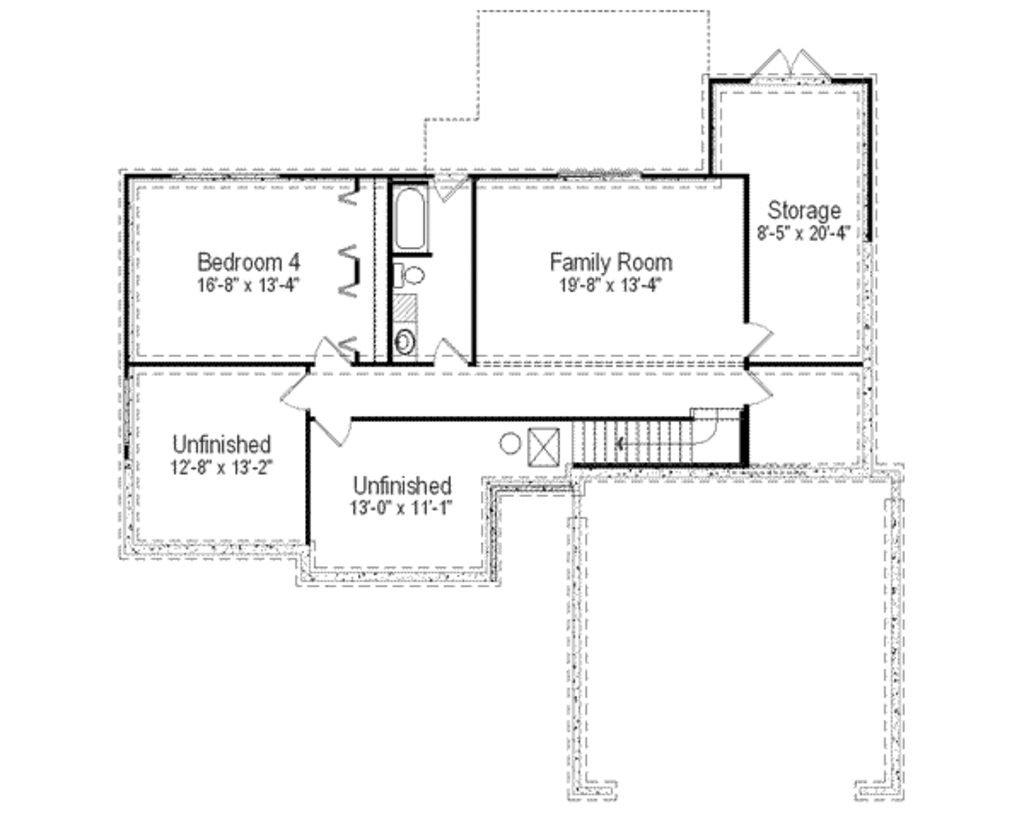door: (757, 46, 831, 78), (272, 372, 321, 410), (735, 321, 777, 359), (740, 365, 776, 399), (433, 172, 468, 203), (314, 418, 352, 445), (433, 335, 471, 360), (312, 336, 348, 360)
large_sink: (390, 252, 439, 291)
small_sink: (391, 323, 412, 359)
stairs: (576, 422, 742, 462)
tub: (388, 180, 438, 257)
